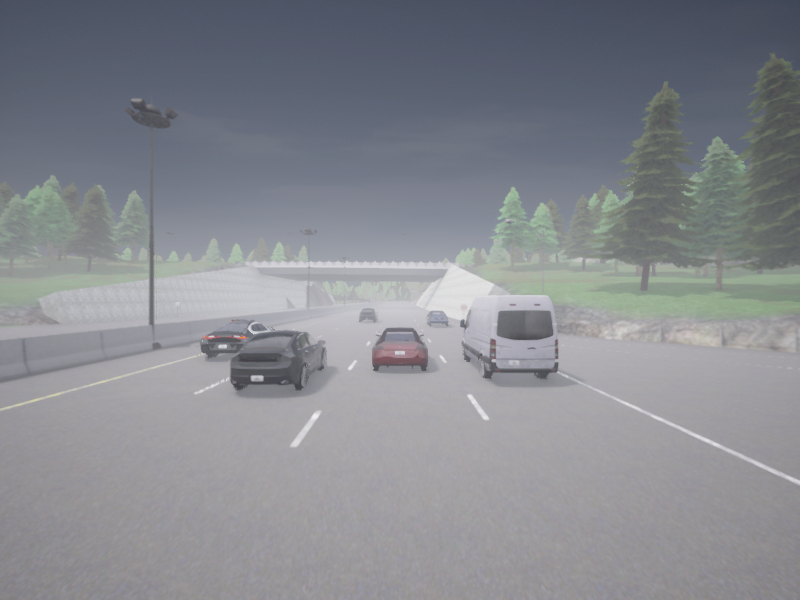vehicle: (460, 295, 558, 378), (230, 330, 325, 388), (200, 319, 273, 357), (372, 327, 427, 369), (425, 311, 448, 325), (359, 308, 378, 321)
